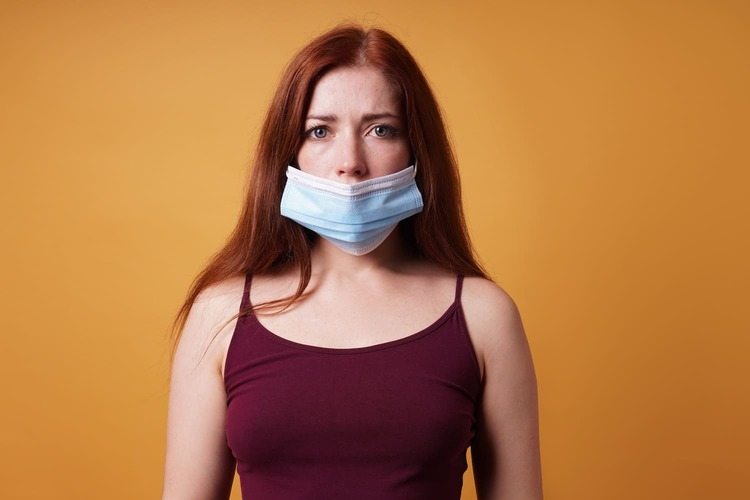with_incorrect_mask: (287, 70, 410, 249)
